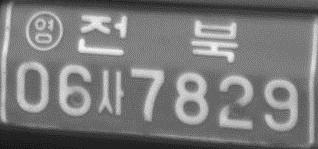0: (15, 59, 50, 114)
2: (217, 73, 254, 131)
6: (57, 64, 92, 118)
7: (130, 67, 166, 121)
8: (173, 71, 209, 125)
9: (262, 77, 299, 132)
사: (95, 68, 126, 117)
영: (24, 10, 63, 53)
전북_D: (77, 13, 239, 63)
